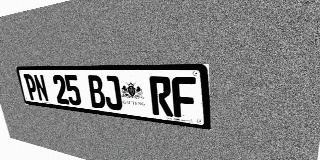2: (52, 75, 70, 105)
5: (64, 75, 82, 106)
B: (86, 75, 107, 109)
F: (171, 77, 197, 120)
J: (102, 75, 123, 111)
N: (33, 74, 49, 102)
P: (23, 74, 39, 101)
R: (149, 76, 173, 117)
